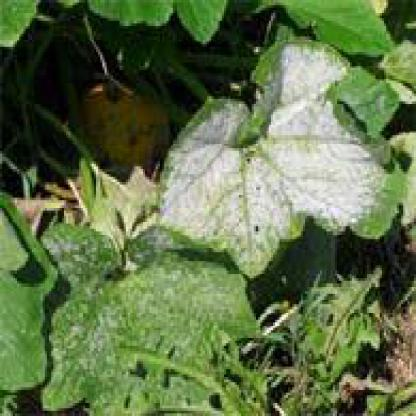PowderyMildew: (156, 39, 386, 231)
